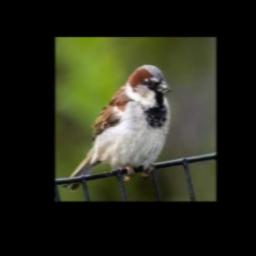Sparrow: (63, 65, 170, 192)
